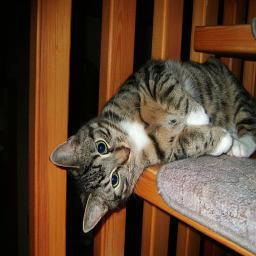catnose: (122, 144, 130, 160)
